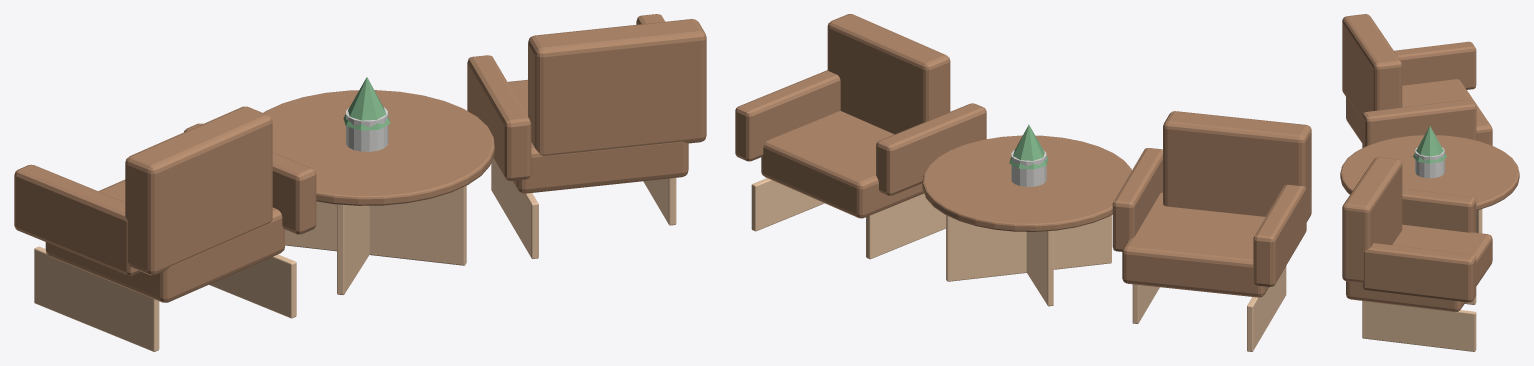
The model's file is office_lounge_seating_reference_board_46.glb.
3 renders of one model, left to right at view 1: azimuth 30°, elevation 25°; view 2: azimuth 150°, elevation 25°; view 3: azimuth 270°, elevation 25°, orthographic. The views are drawn at different scales.
Parts seen in each view (by area): view 1: Cylinder; view 2: Cylinder; view 3: Cylinder.
Part boxes in pixels (left/top/right/bottom): Cylinder: left=14, top=14, right=706, bottom=351; Cylinder: left=735, top=14, right=1311, bottom=351; Cylinder: left=1340, top=14, right=1519, bottom=351.
Bounding box in the file's own units: 2.45 × 0.72 × 0.84.
